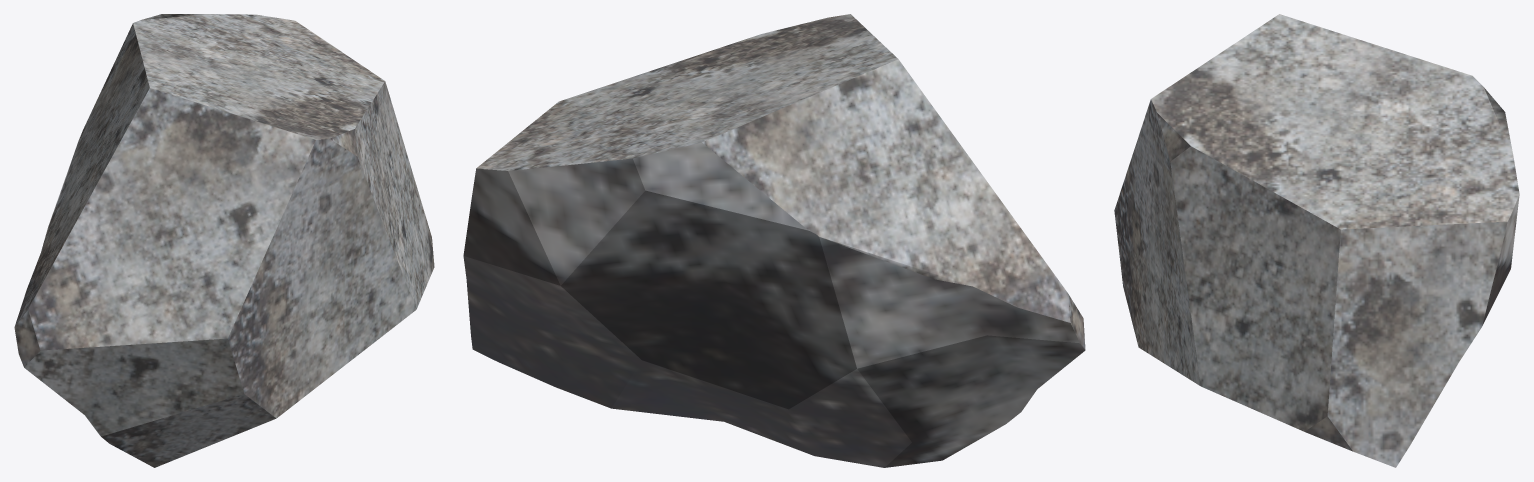
File: Asteroid_Large_001_02_003_03_017.fbx
3 renders of one model, left to right at view 1: azimuth 30°, elevation 25°; view 2: azimuth 150°, elevation 25°; view 3: azimuth 270°, elevation 25°, orthographic. The views are drawn at different scales.
Parts seen in each view (by area): view 1: Asteroid_Large_001_02_003_03_017; view 2: Asteroid_Large_001_02_003_03_017; view 3: Asteroid_Large_001_02_003_03_017.
Boxes of the visible parts, x1,y1,x2,y2 form: Asteroid_Large_001_02_003_03_017: [14, 14, 434, 467]; Asteroid_Large_001_02_003_03_017: [463, 14, 1085, 467]; Asteroid_Large_001_02_003_03_017: [1114, 14, 1519, 467].
Bounding box in the file's own units: 11.53 × 8.69 × 8.57.
